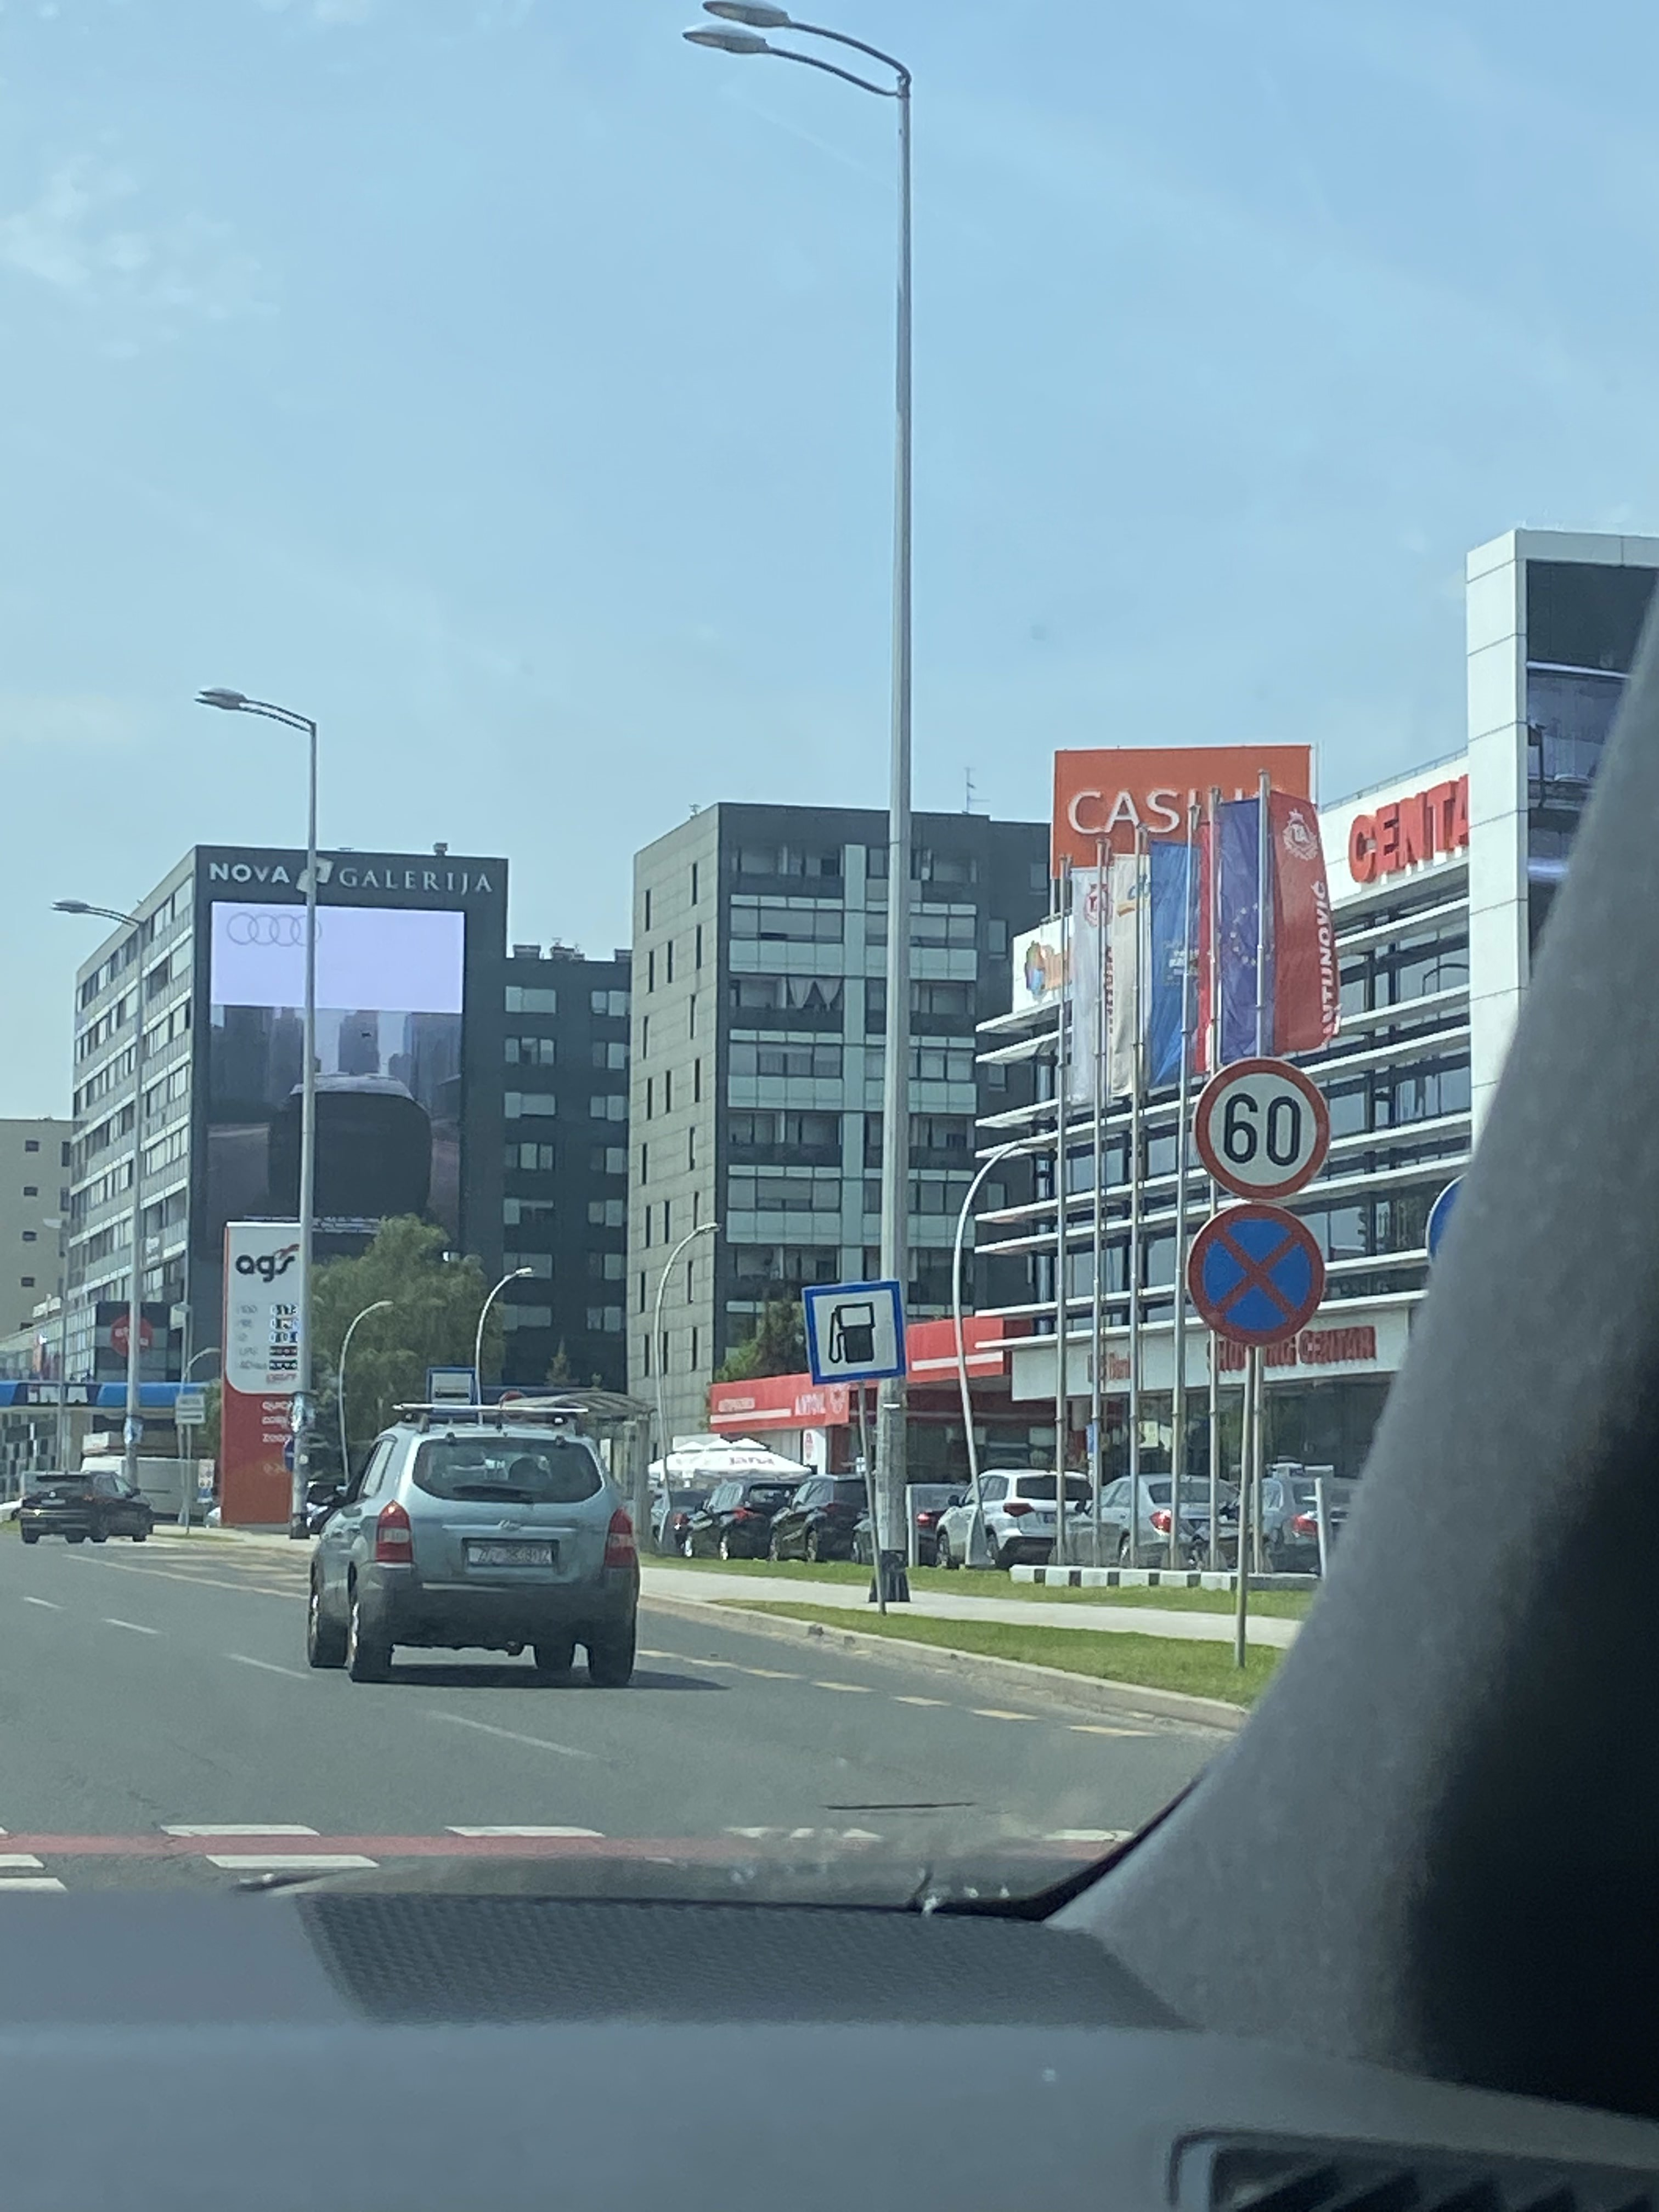Ograničenje brzine 60: (1194, 1055, 1331, 1200)
